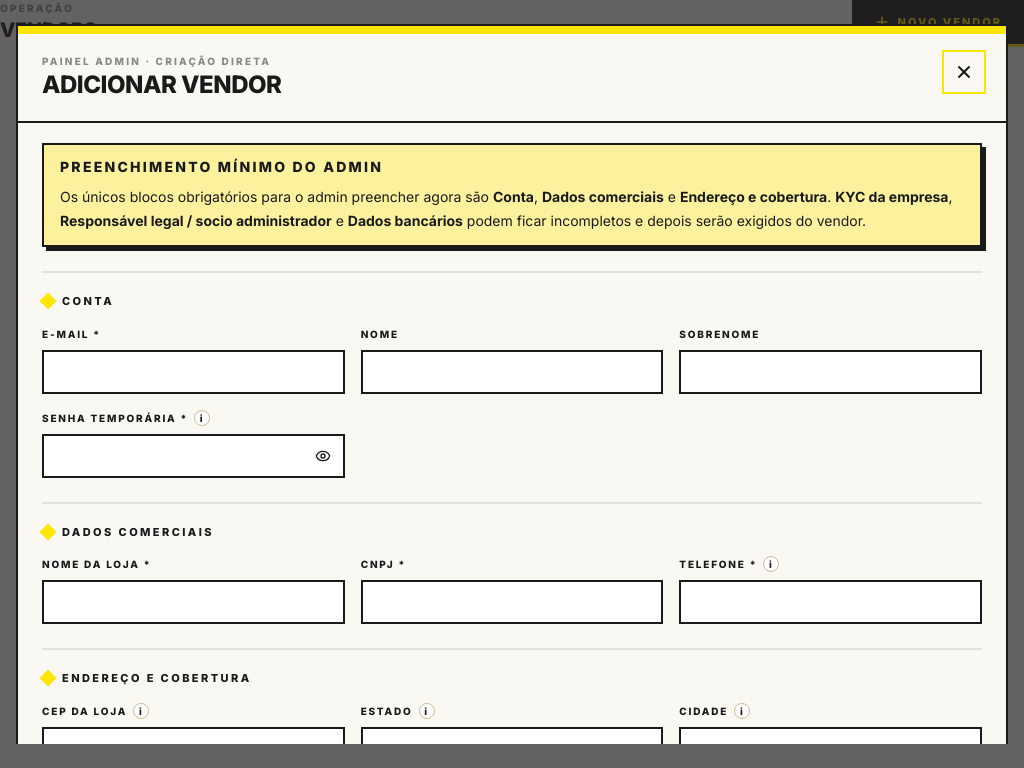
VendorCreateLauncher — dígitos verificadores do documento › acusa CNPJ com dígito verificador fabricado, no campo e no titular espelhado
The width and height of the screenshot is (1024, 768).
Step 1. Type "65326368000191" into the field labelled "CNPJ *" → (512, 602), box [361,580,663,624]
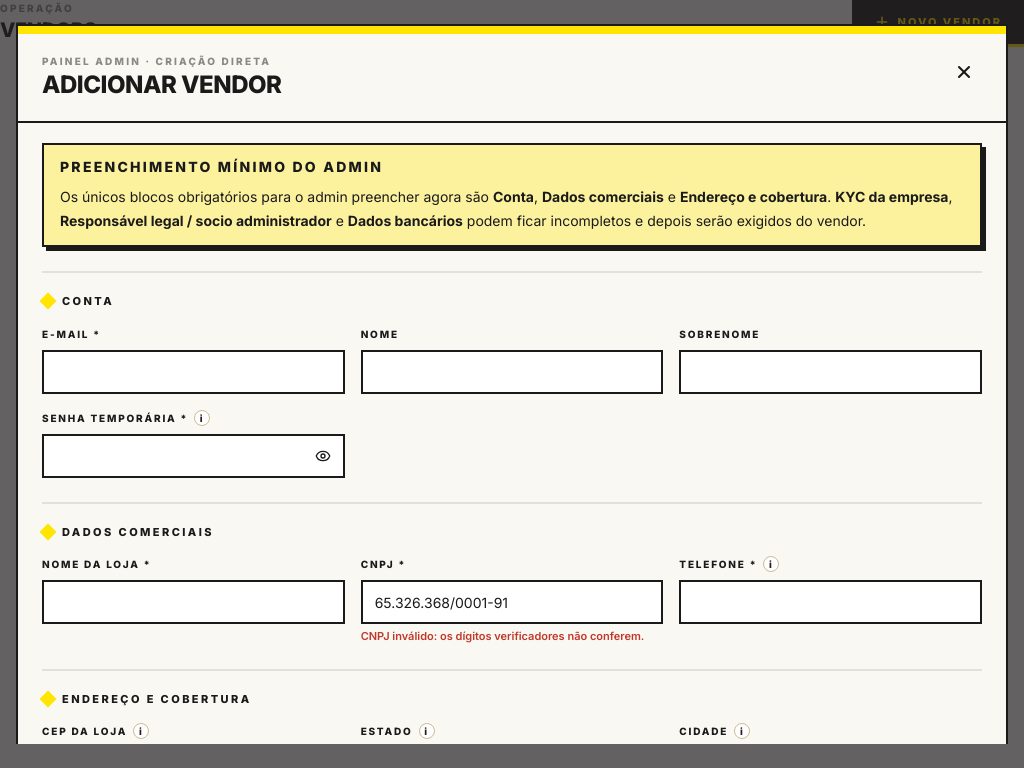
Expected: the text "CNPJ inválido: os dígitos verificadores não conferem." is shown, [361,628,663,644]
